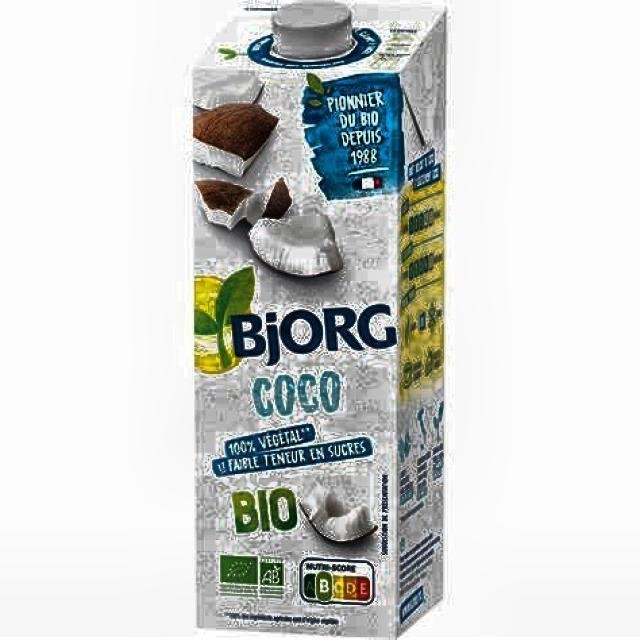cardboard: (190, 1, 447, 638)
